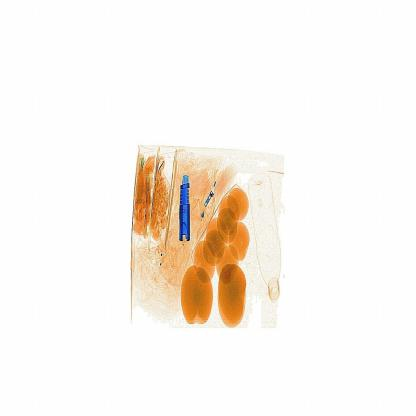gun: (180, 173, 195, 247)
